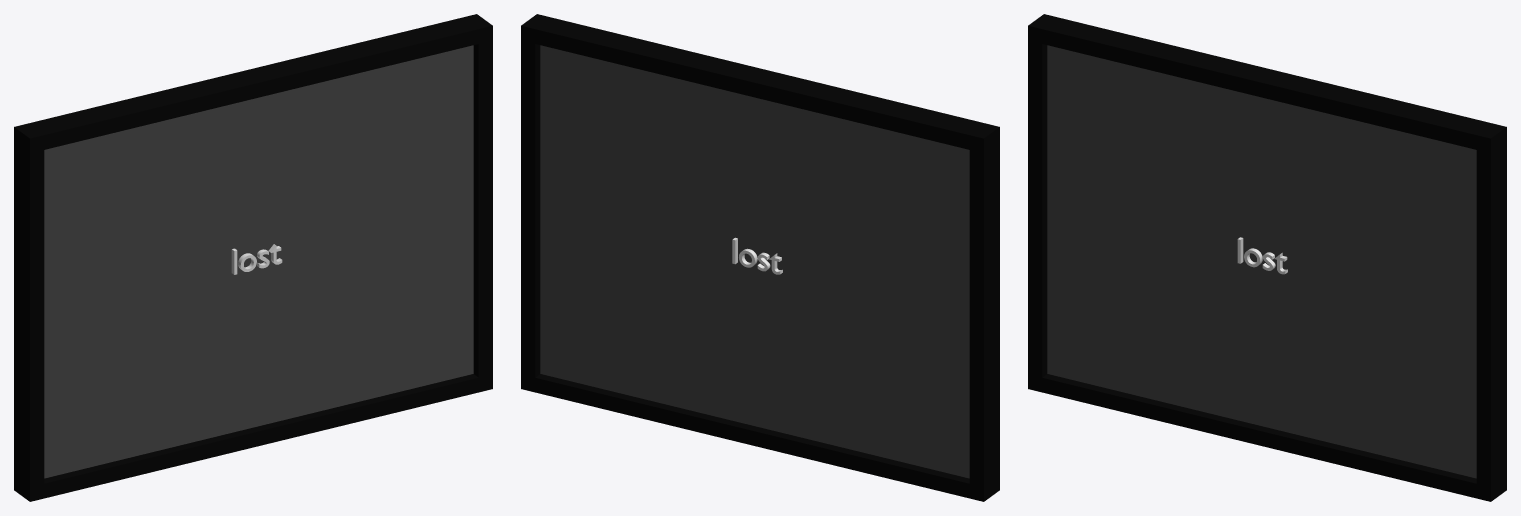
File: Lost.fbx
3 renders of one model, left to right at view 1: azimuth 30°, elevation 25°; view 2: azimuth 150°, elevation 25°; view 3: azimuth 330°, elevation 25°, orthographic.
Parts seen in each view (by area): view 1: Plane; view 2: Plane; view 3: Plane.
Part boxes in pixels (x1,y1,x2,y2): Plane: (14,14,492,501); Plane: (521,14,999,501); Plane: (1028,14,1506,501).
Bounding box in the file's own units: 497 × 373 × 29.78.
